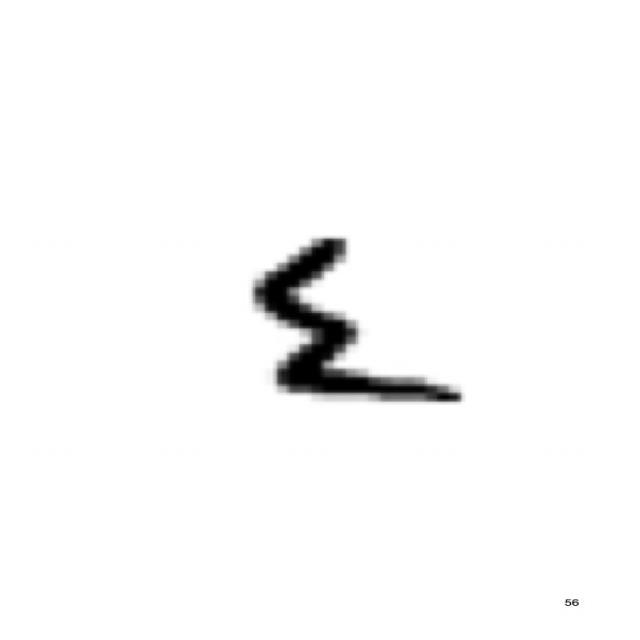4 -four-: (239, 221, 484, 419)
